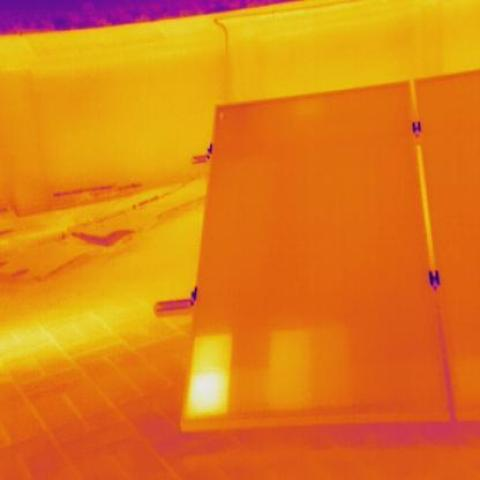fault: (188, 372, 226, 411), (192, 338, 229, 368)
